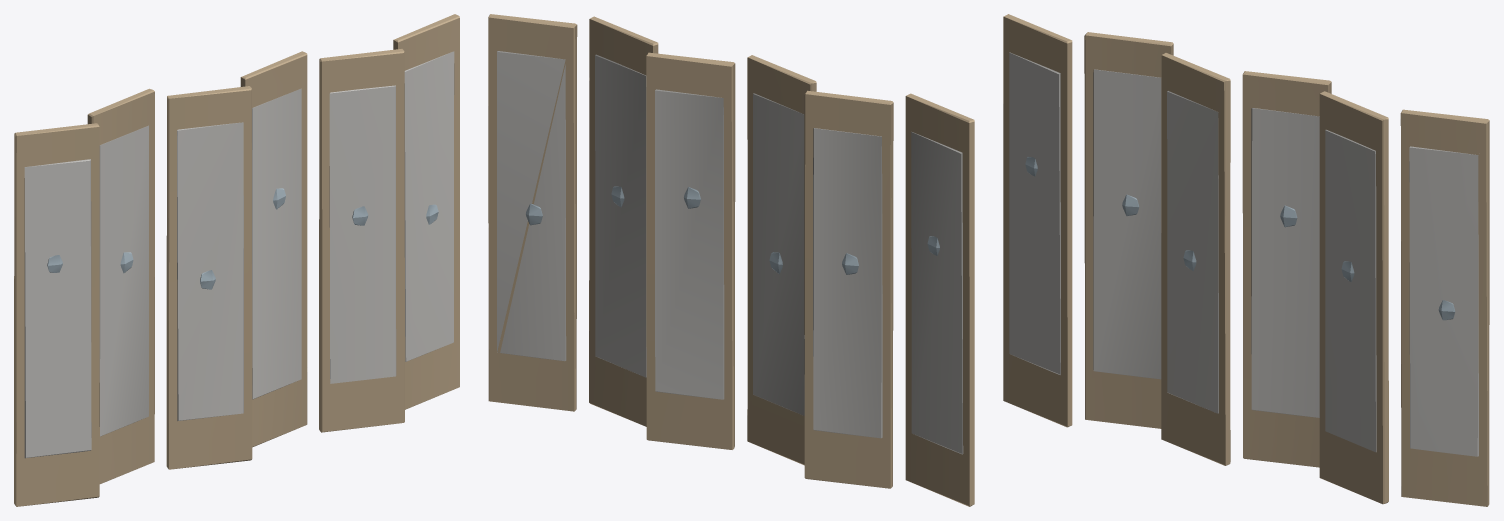
The model's file is furn_folding_screen__oak_low.glb.
3 views of the same model, side by side, from view 1: azimuth 30°, elevation 25°; view 2: azimuth 150°, elevation 25°; view 3: azimuth 330°, elevation 25° (orthographic). The views are drawn at different scales.
Bounding box in the file's own units: 1.79 × 1.4 × 0.1803.
